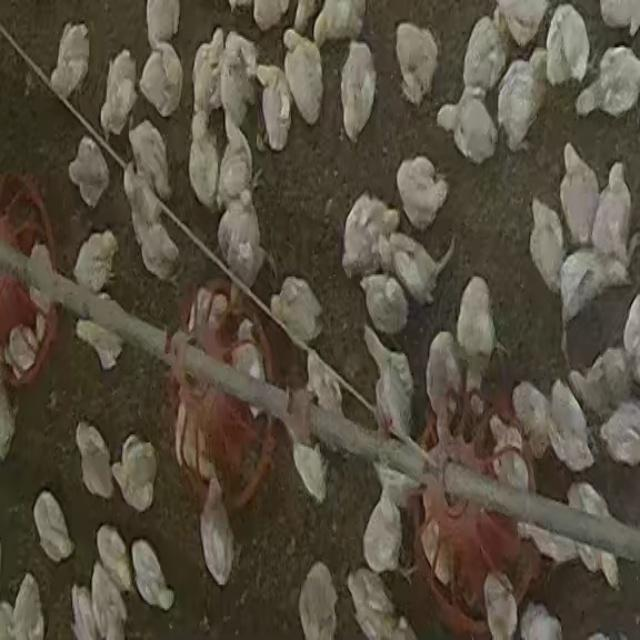chicken: (123, 164, 182, 286), (362, 324, 416, 451), (565, 479, 621, 586), (386, 229, 457, 311), (362, 474, 412, 577), (566, 347, 632, 424), (494, 59, 546, 156), (577, 44, 640, 121), (559, 253, 629, 322), (545, 377, 595, 472), (341, 192, 394, 281), (280, 28, 324, 130), (462, 277, 494, 414), (217, 198, 264, 290), (556, 145, 597, 249), (123, 120, 175, 202), (217, 32, 259, 133), (339, 40, 379, 145), (268, 276, 324, 351), (347, 570, 405, 640), (395, 154, 447, 232), (393, 21, 440, 107), (198, 480, 235, 587), (510, 378, 556, 464), (544, 3, 590, 88), (595, 163, 635, 260), (447, 89, 498, 165), (216, 117, 256, 213), (109, 434, 157, 514), (460, 16, 506, 99), (426, 329, 457, 445), (100, 49, 139, 140), (138, 40, 182, 119), (255, 62, 292, 154), (187, 112, 221, 212), (129, 537, 174, 612), (361, 272, 412, 338), (50, 22, 91, 102), (68, 135, 110, 212), (75, 423, 115, 503), (72, 229, 119, 296), (175, 408, 219, 479), (298, 563, 339, 639), (304, 347, 346, 421), (33, 490, 75, 564), (492, 1, 554, 51), (190, 30, 223, 120), (89, 562, 129, 636), (233, 313, 262, 413), (598, 399, 640, 468), (95, 524, 134, 595), (75, 319, 127, 371), (492, 414, 524, 495), (6, 574, 45, 639), (291, 441, 329, 507), (527, 211, 560, 285), (481, 572, 516, 640), (423, 501, 452, 582), (516, 524, 570, 566), (183, 286, 227, 337), (311, 2, 363, 45), (25, 240, 52, 310), (1, 325, 38, 375), (145, 1, 180, 49), (521, 601, 562, 640)
